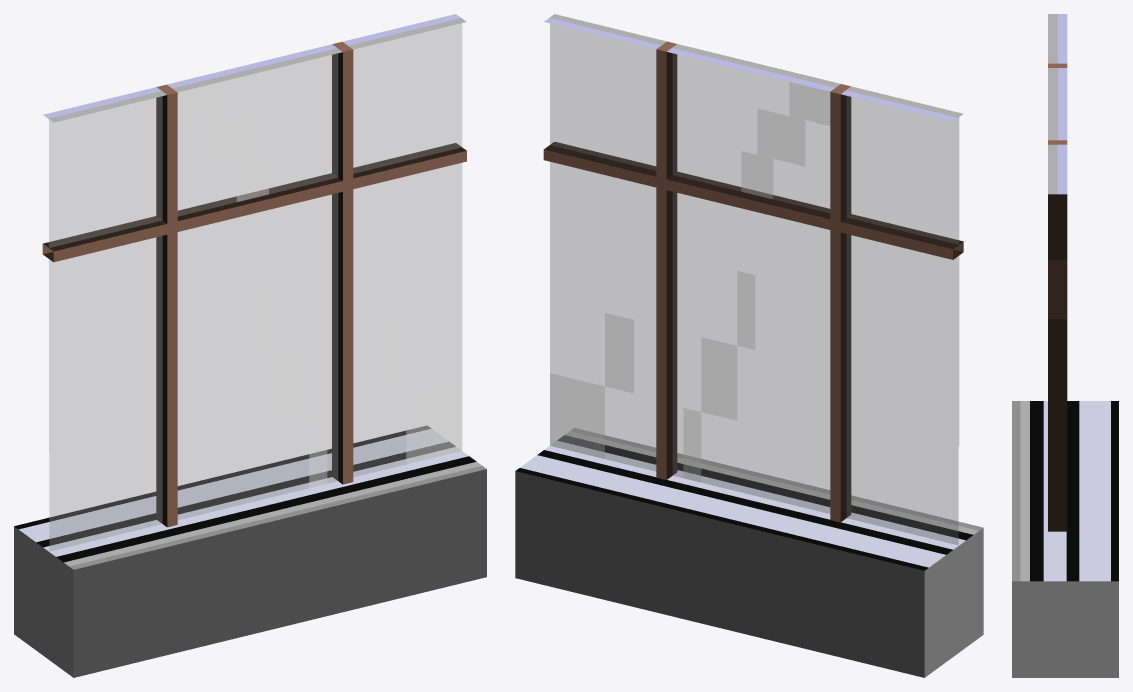
File: glass_wall_996.gltf
3 views of the same model, side by side, from view 1: azimuth 30°, elevation 25°; view 2: azimuth 150°, elevation 25°; view 3: azimuth 270°, elevation 25° (orthographic). The views are drawn at different scales.
Visible parts, largest first — view 1: glass_wall_996; view 2: glass_wall_996; view 3: glass_wall_996.
Part boxes in pixels (x1=…): glass_wall_996: x1=14, y1=14, x2=486, y2=677; glass_wall_996: x1=515, y1=14, x2=983, y2=677; glass_wall_996: x1=1012, y1=14, x2=1118, y2=677.
Bounding box in the file's own units: 4 × 5 × 1.
Materials: 1 (1 with a texture image).
